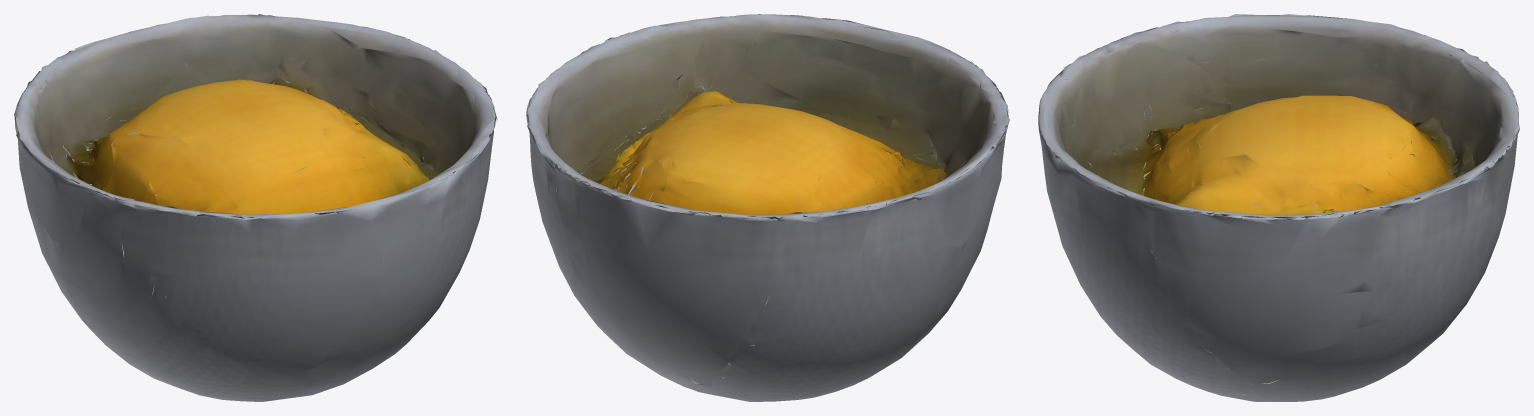
File: Jaunes d'oeufs mousseux.glb
The picture shows the model from 3 angles, left to right: view 1: azimuth 30°, elevation 25°; view 2: azimuth 150°, elevation 25°; view 3: azimuth 270°, elevation 25°; orthographic projection.
Visible parts, largest first — view 1: high_poly.076; view 2: high_poly.076; view 3: high_poly.076.
Part boxes in pixels (x1,y1,x2,y2): high_poly.076: [14, 14, 497, 401]; high_poly.076: [526, 14, 1009, 401]; high_poly.076: [1038, 14, 1519, 401].
Size of the model in its own units: 1 by 0.596 by 1.
1 material, 1 textured.
